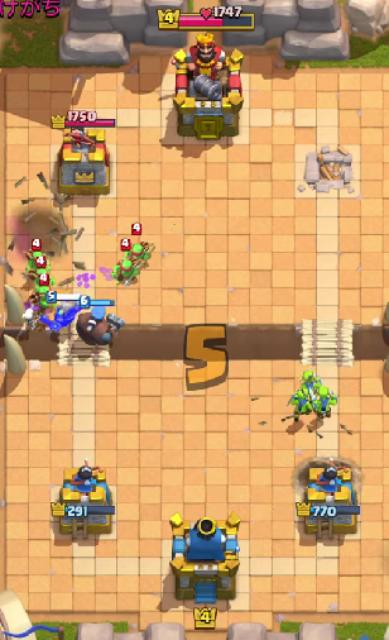ally_melee: (77, 294, 125, 347), (41, 291, 82, 333), (288, 388, 311, 425), (313, 386, 338, 419), (298, 371, 322, 401)
enemy_melee: (26, 237, 47, 273), (34, 257, 52, 291), (37, 274, 52, 306)
enemy_ranged: (128, 222, 156, 268), (115, 239, 140, 286)
